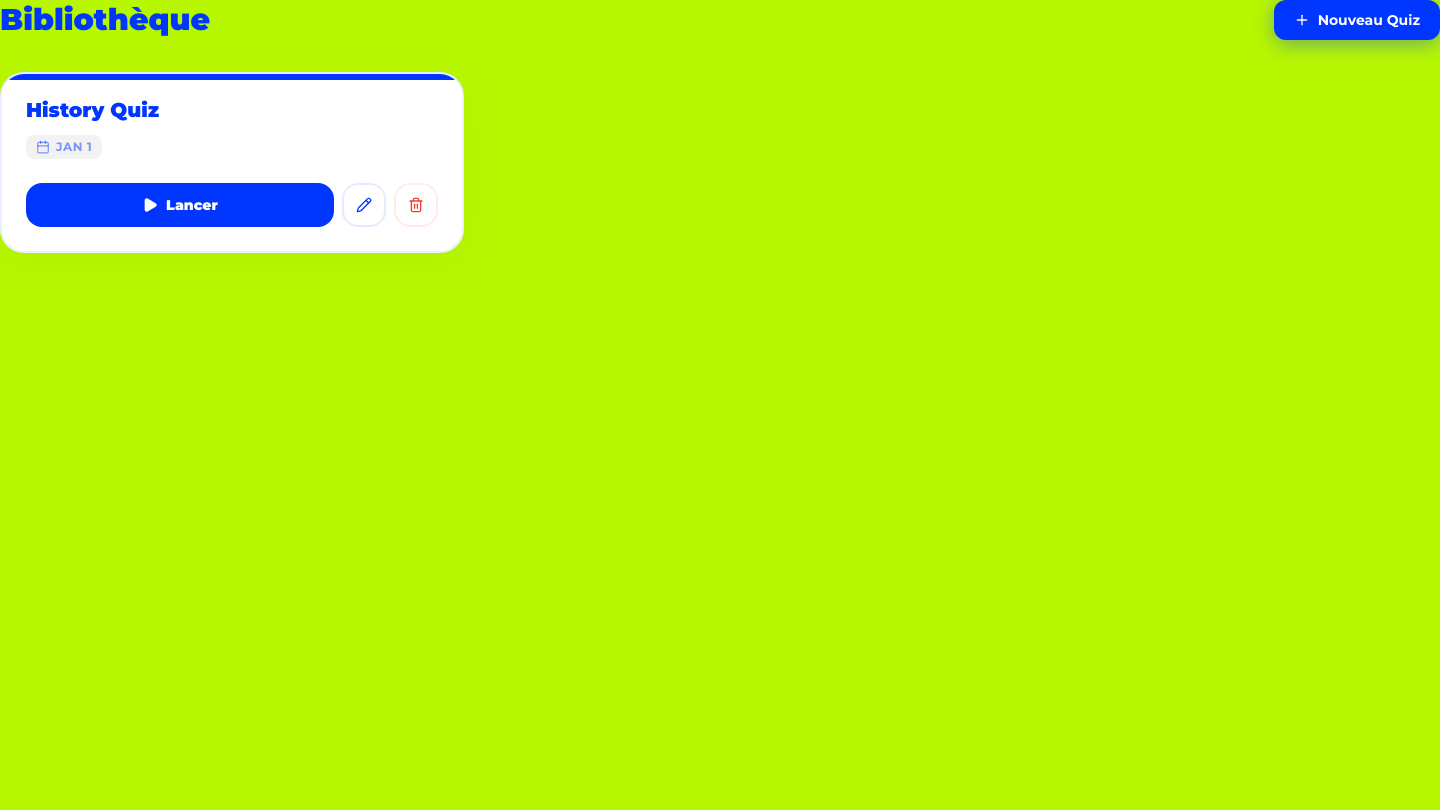
Scenario: QuizListPage › closes modal and does not delete when Cancel is clicked
Expected: the heading "History Quiz" is shown, [26, 98, 159, 122]
Click the button named "supprimer" at (416, 205), box [394, 183, 438, 227]
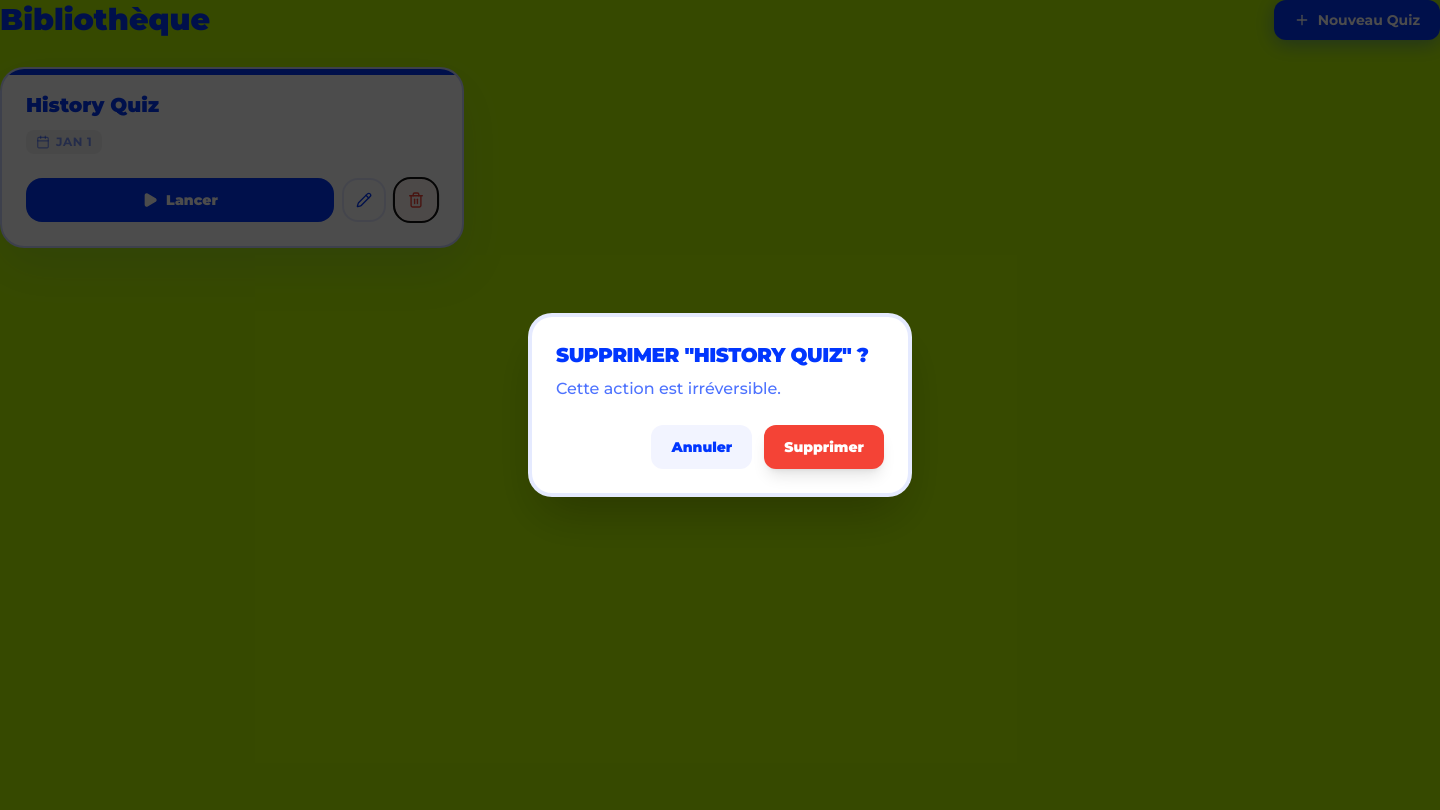
Now the dialog is shown
Click the button "Annuler" at (702, 447), box [651, 425, 752, 469]
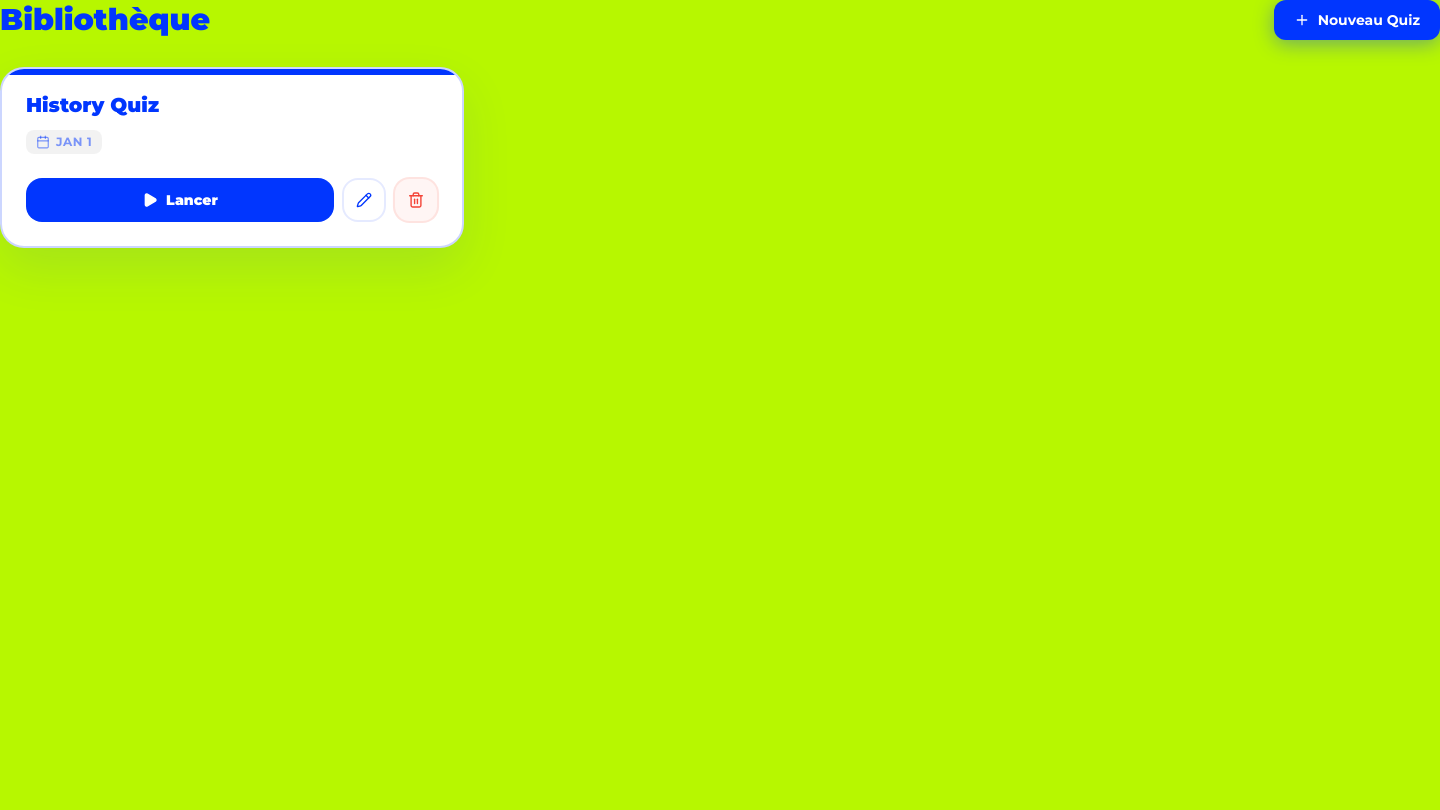
Now the dialog is gone
